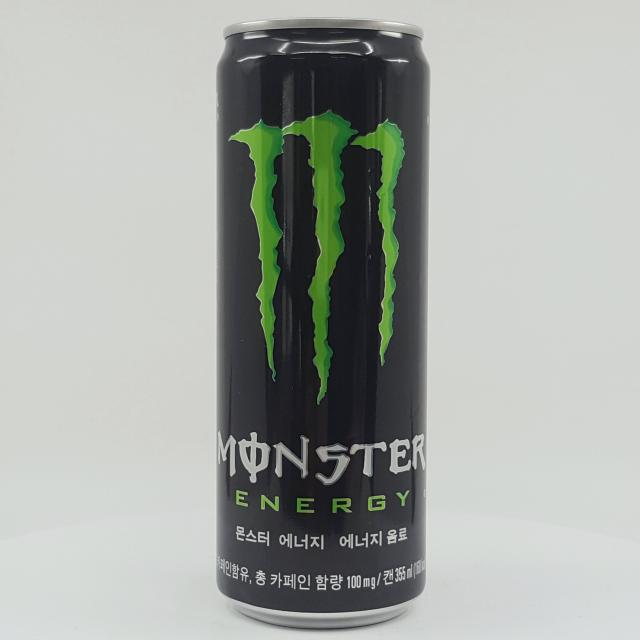--------355ML: (216, 17, 430, 629)
